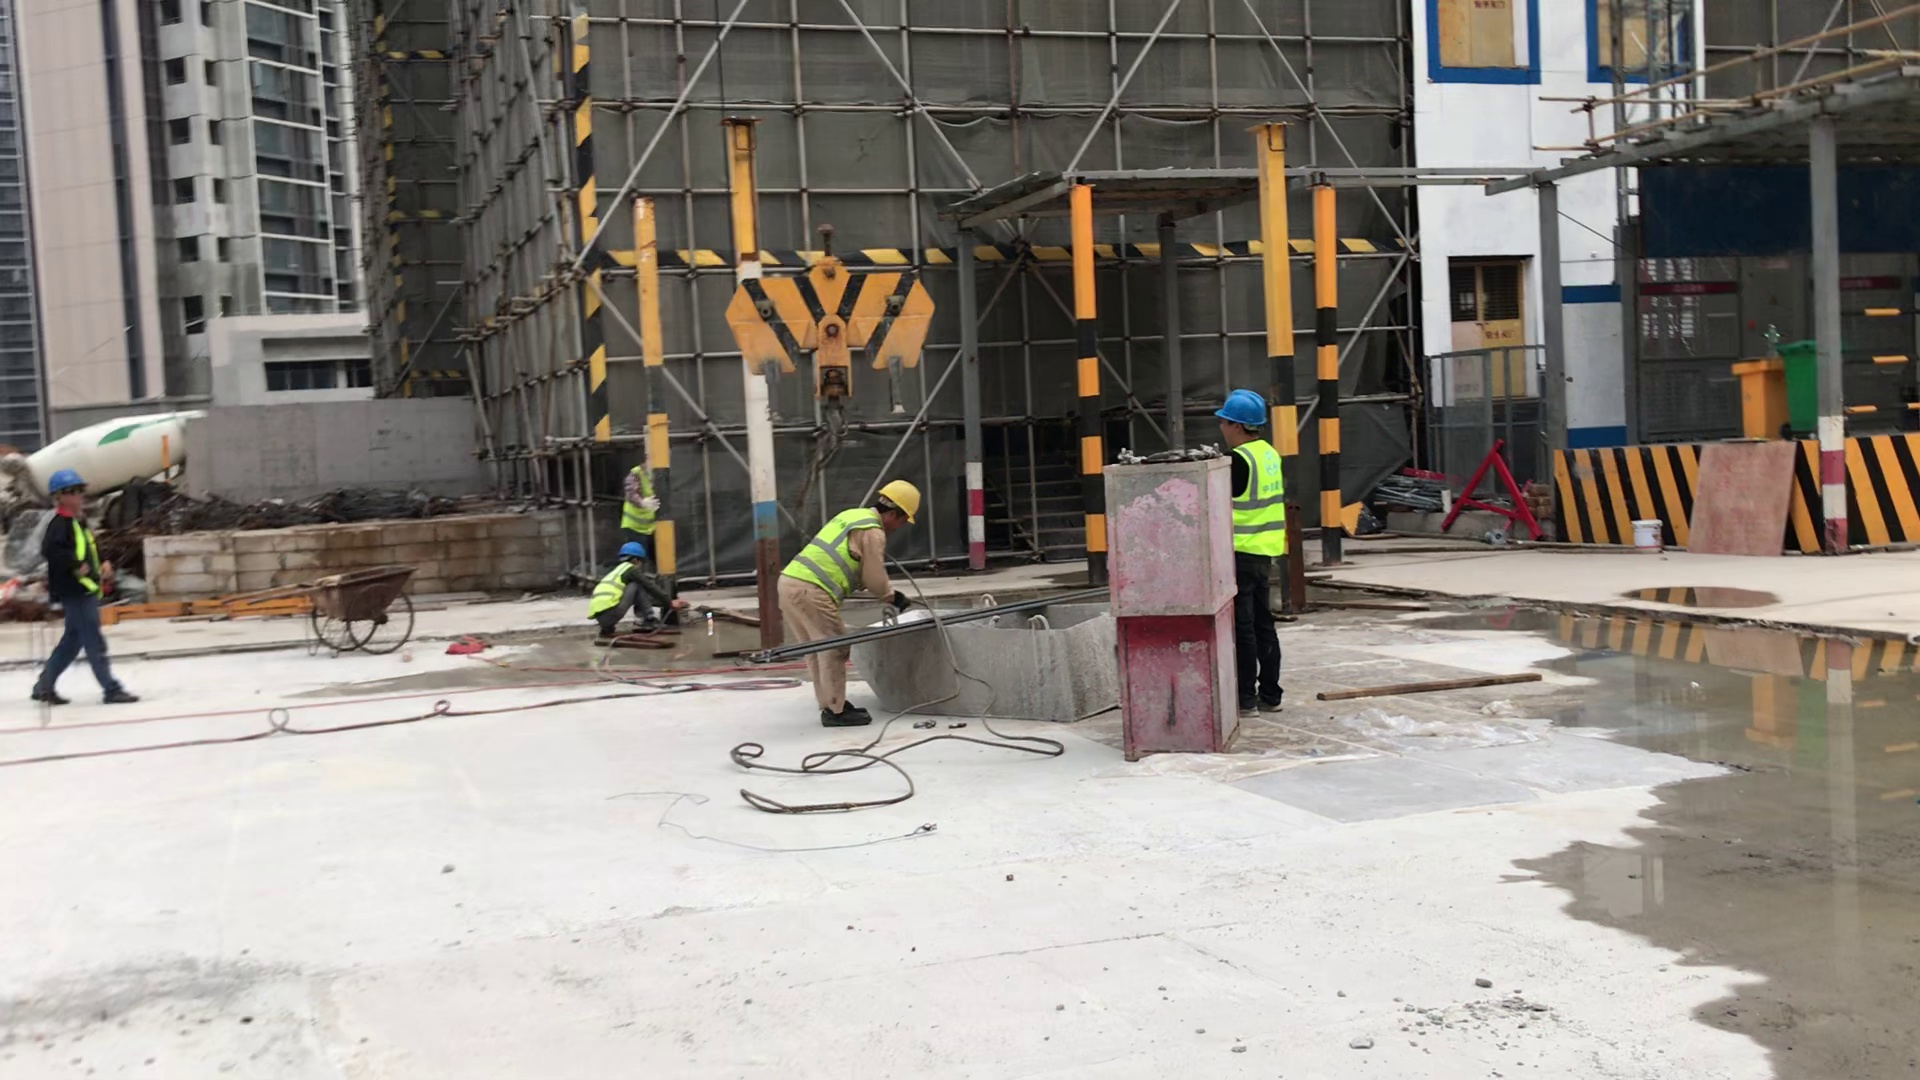fence: (1837, 295, 1920, 432)
handcart: (258, 553, 438, 669)
helmet: (869, 466, 932, 522), (1209, 380, 1277, 431), (40, 464, 98, 496), (613, 537, 659, 568)
hook: (698, 214, 996, 488)
hopper: (834, 576, 1131, 747)
person: (1201, 385, 1339, 724), (778, 453, 929, 745), (28, 466, 146, 720), (579, 535, 686, 661), (611, 451, 681, 568)
rebar: (749, 587, 1113, 668)
vest: (771, 501, 875, 623), (1213, 438, 1296, 564), (586, 553, 650, 630), (46, 515, 108, 592), (613, 457, 659, 531)
